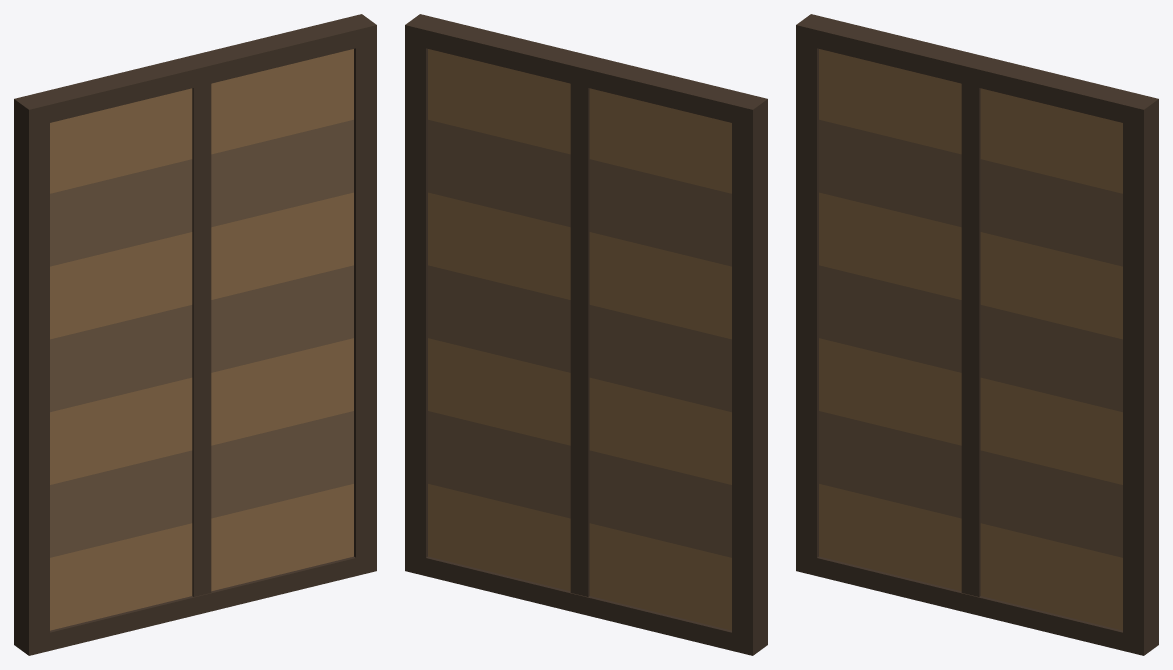
File: base_wall.glb
3 views of the same model, side by side, from view 1: azimuth 30°, elevation 25°; view 2: azimuth 150°, elevation 25°; view 3: azimuth 330°, elevation 25° (orthographic).
Visible parts, largest first — view 1: base_wall; view 2: base_wall; view 3: base_wall.
Boxes of the visible parts, bbox=[...] form: base_wall: bbox=[14, 14, 376, 655]; base_wall: bbox=[405, 14, 767, 655]; base_wall: bbox=[796, 14, 1158, 655].
Size of what is drawn, in the model's own units: 2 by 3 by 0.15.
1 material, 1 textured.
